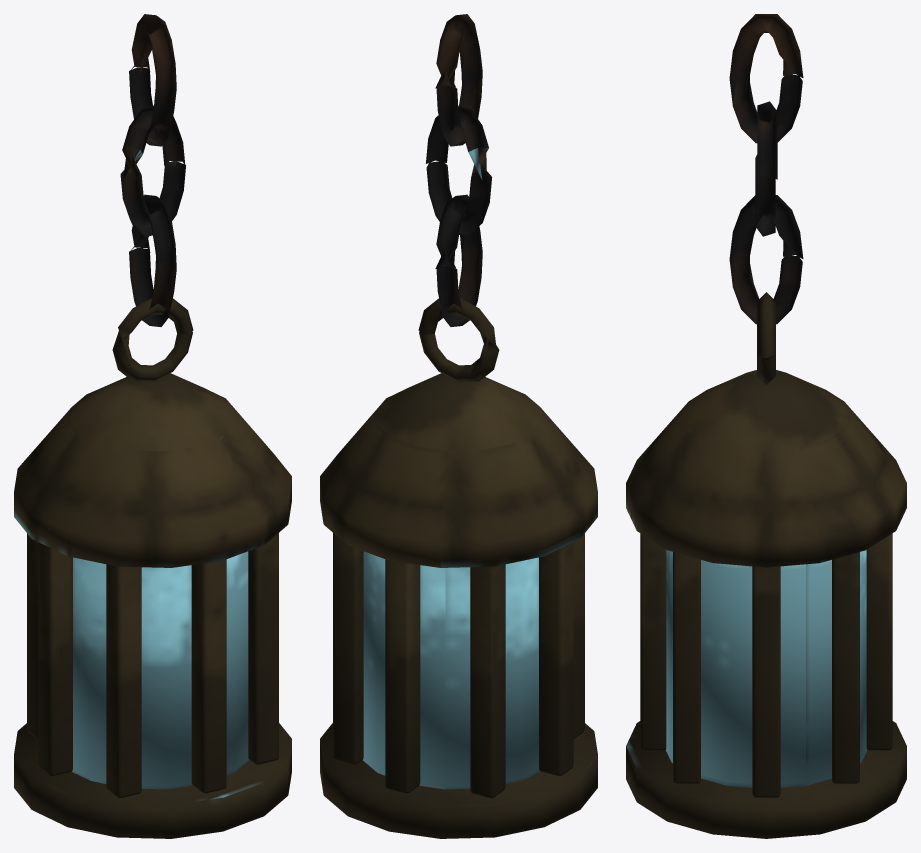
The model's file is ossuary_lantern.obj.
3 views of the same model, side by side, from view 1: azimuth 30°, elevation 25°; view 2: azimuth 150°, elevation 25°; view 3: azimuth 270°, elevation 25° (orthographic).
Visible parts, largest first — view 1: part0, fire, part2; view 2: part0, fire, part2; view 3: part0, fire, part2.
Part boxes in pixels (x1,y1,x2,y2): part0: (14, 298, 291, 838); fire: (71, 551, 248, 789); part2: (120, 14, 185, 326); part0: (320, 298, 597, 838); fire: (363, 551, 540, 789); part2: (426, 14, 492, 326); part0: (626, 292, 906, 838); fire: (665, 550, 867, 787); part2: (729, 14, 803, 324).
Size of the model in its own units: 0.3 by 0.9011 by 0.3.
